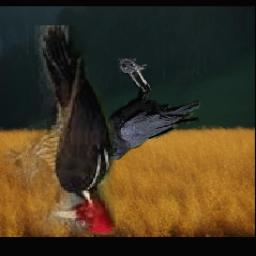Crow: (93, 59, 200, 160)
Woodpecker: (0, 26, 116, 236)
